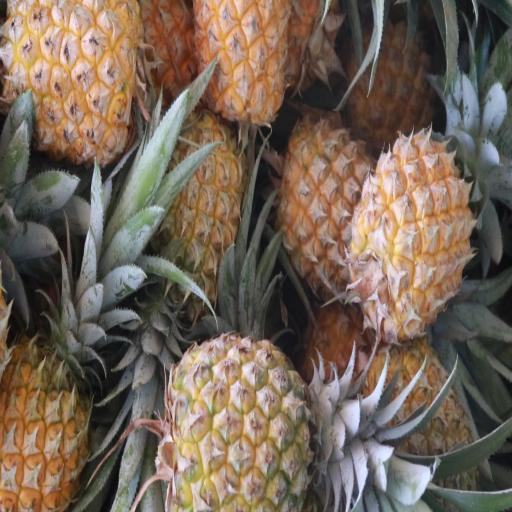------------------------------: (166, 336, 327, 512), (358, 343, 472, 507), (278, 121, 372, 301)
Pineapple - v8 v1: (351, 130, 470, 332), (2, 0, 136, 164), (0, 341, 99, 512), (158, 115, 240, 317), (196, 0, 286, 126), (347, 19, 435, 146)
